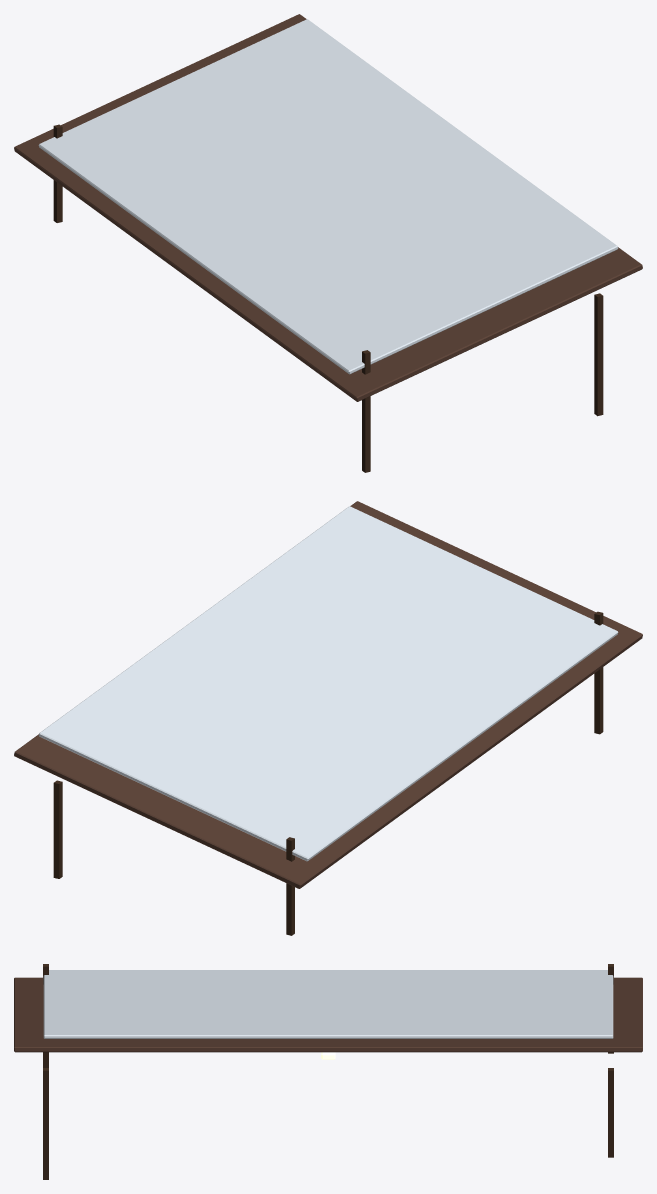
File: DepotCanopy_-2_-2.fbx
3 views of the same model, one above another, from view 1: azimuth 30°, elevation 25°; view 2: azimuth 150°, elevation 25°; view 3: azimuth 270°, elevation 25° (orthographic). The views are drawn at different scales.
Visible parts, largest first — view 1: DepotCanopy_-2_-2; view 2: DepotCanopy_-2_-2; view 3: DepotCanopy_-2_-2.
Boxes of the visible parts, left/top/right/bottom form: DepotCanopy_-2_-2: left=14, top=14, right=642, bottom=472; DepotCanopy_-2_-2: left=14, top=501, right=642, bottom=935; DepotCanopy_-2_-2: left=14, top=964, right=642, bottom=1179.
Size of the model in its own units: 1334 by 732 by 2760.
